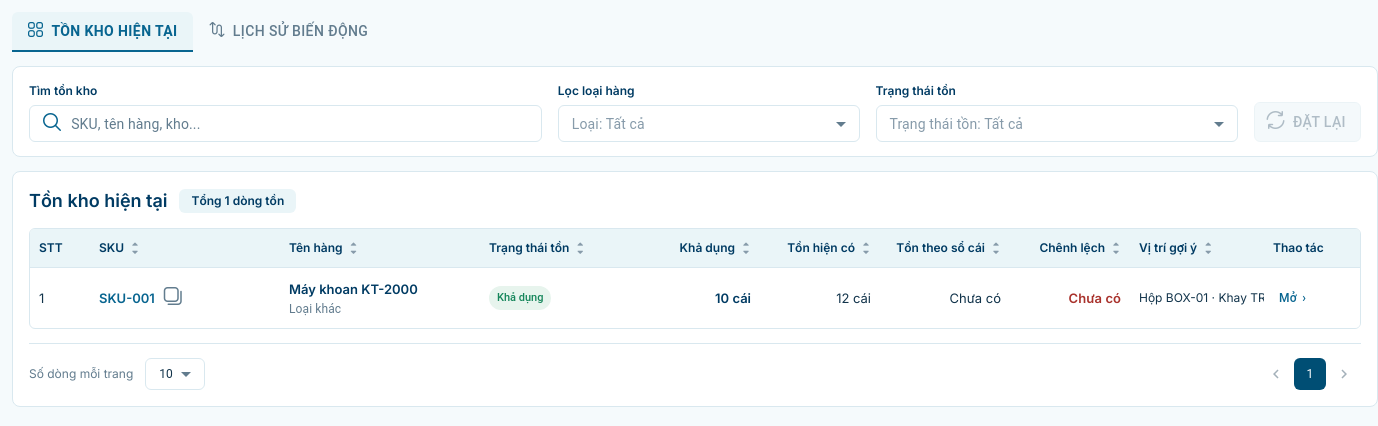
Scenario: InventoryPage (INV-01 hub) › nút Trace bị disable khi thiếu quyền inventory.trace (RBAC)
This screenshot has width=1378, height=426.
Expected: the text "SKU-001" is shown, [99, 290, 155, 306]
Click the tab "Lịch sử biến động".
click(289, 32)  # box [194, 12, 384, 52]
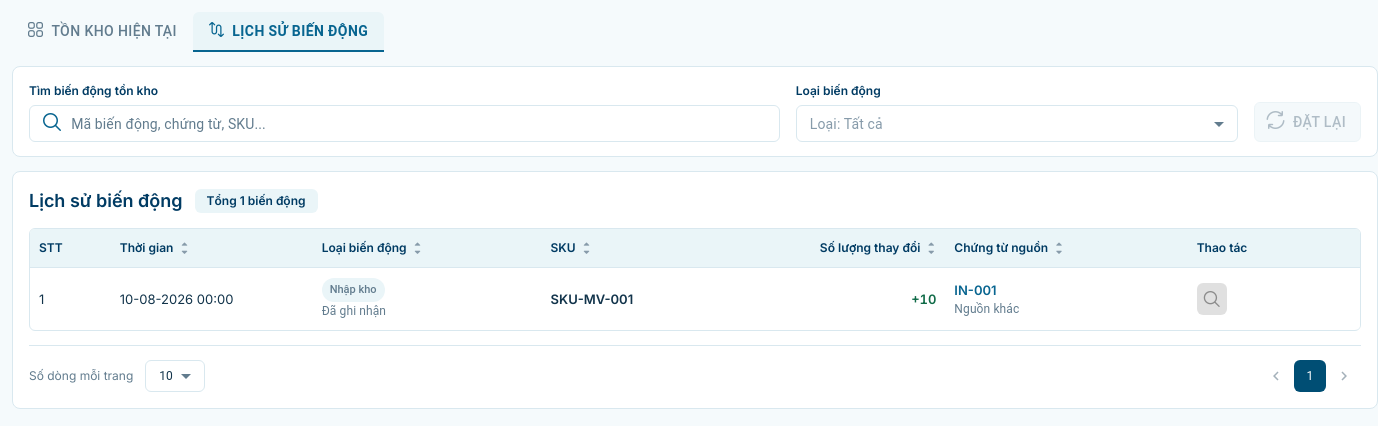
Expected: the text "SKU-MV-001" is shown, [550, 291, 633, 307]
Expected: the button named "Truy vết" is disabled, [1197, 283, 1227, 315]
